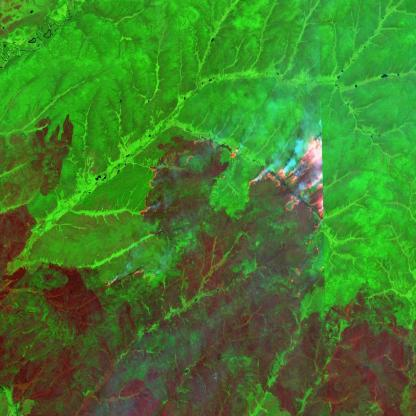fire: (248, 135, 326, 228), (97, 266, 158, 297), (138, 158, 160, 227), (225, 143, 242, 162)
